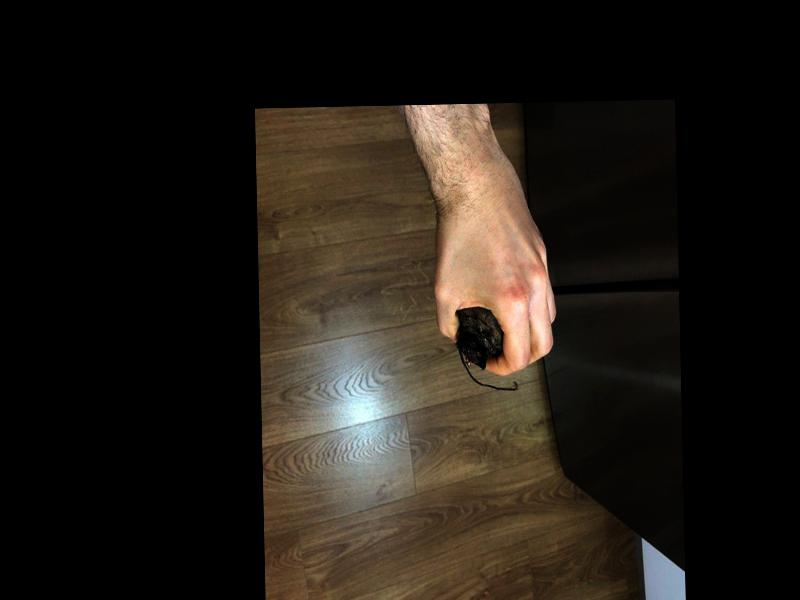Beet: (455, 306, 519, 394)
